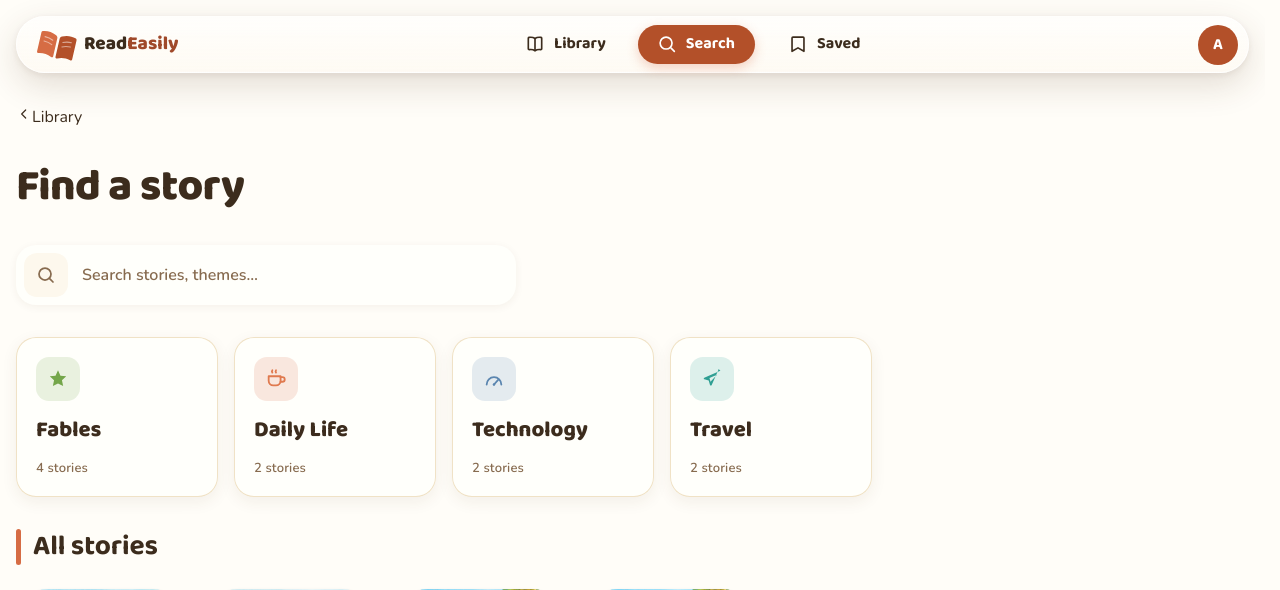
Scenario: SearchScreen › filters results + section header + aria-current when a category is selected
Expected: the heading "All stories" is shown, [16, 524, 158, 569]
What coordinates should you click on to do the following:
click the link "Travel 2 stories"
I would click on:
 (771, 417)
Its box is [670, 337, 872, 497].
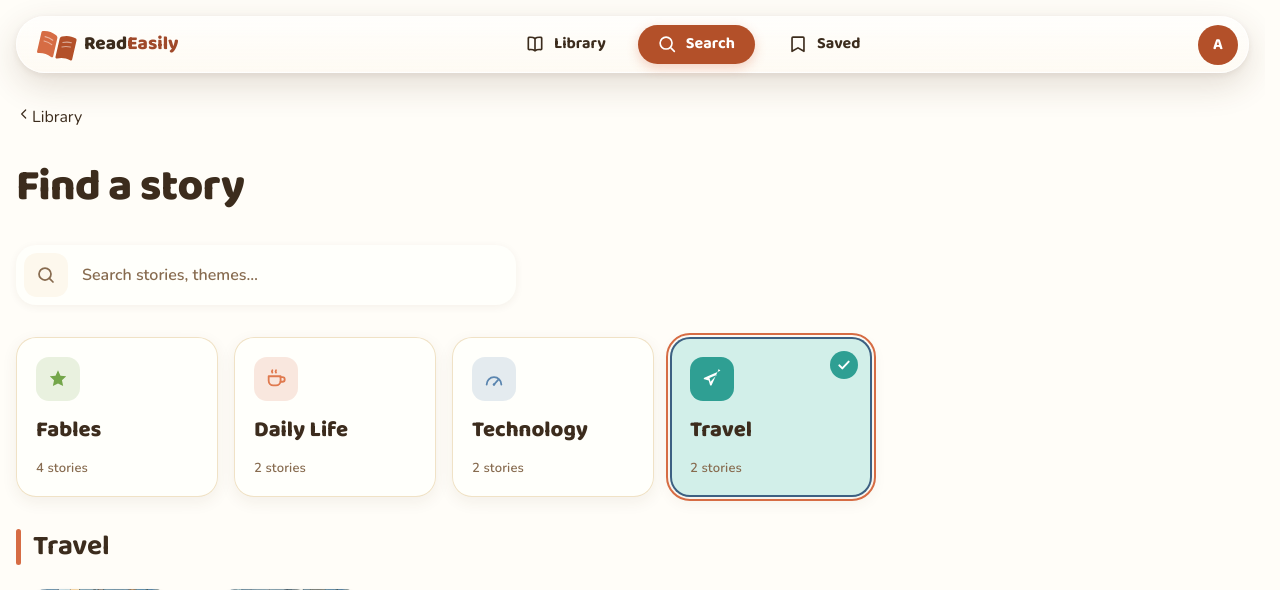
Result: the heading "Travel" is shown at [16, 524, 110, 569]
Result: the text "All stories" is gone
